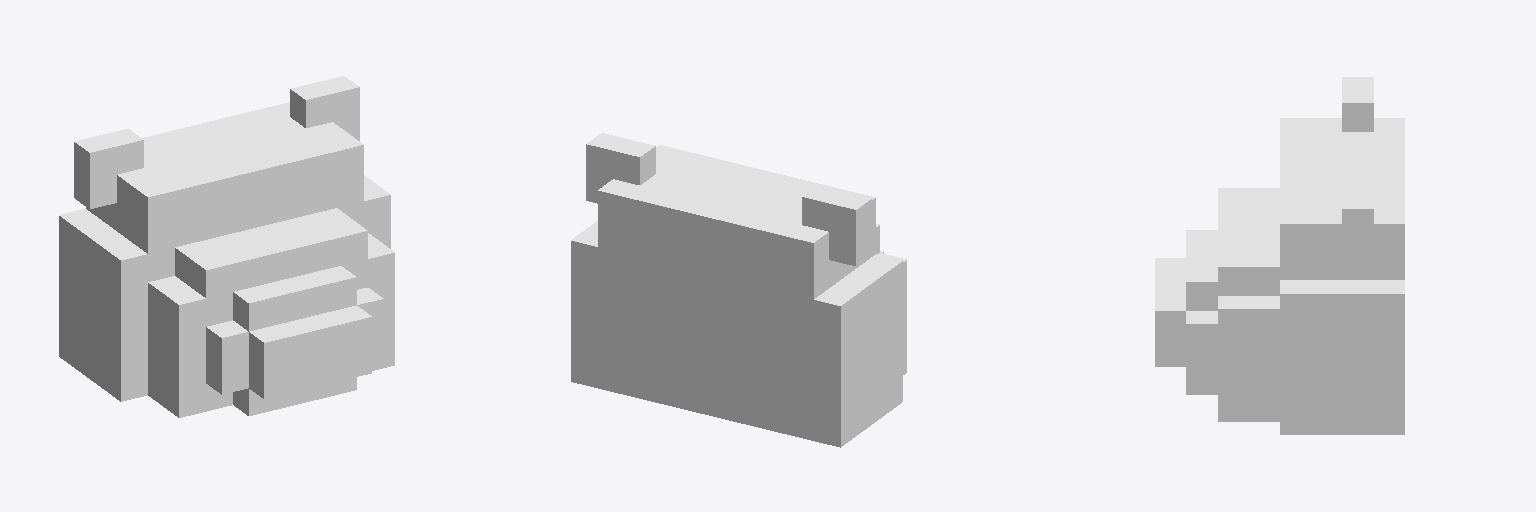
Rendered from pandaHD.obj.
The picture shows the model from 3 angles: view 1: azimuth 30°, elevation 25°; view 2: azimuth 150°, elevation 25°; view 3: azimuth 270°, elevation 25°; orthographic projection.
Visible parts, largest first — view 1: object 1; view 2: object 1; view 3: object 1.
Part boxes in pixels (x1,y1,x2,y2): object 1: (59,76,394,417); object 1: (571,133,906,447); object 1: (1155,77,1404,434).
Size of the model in its own units: 1 by 0.8 by 0.8.